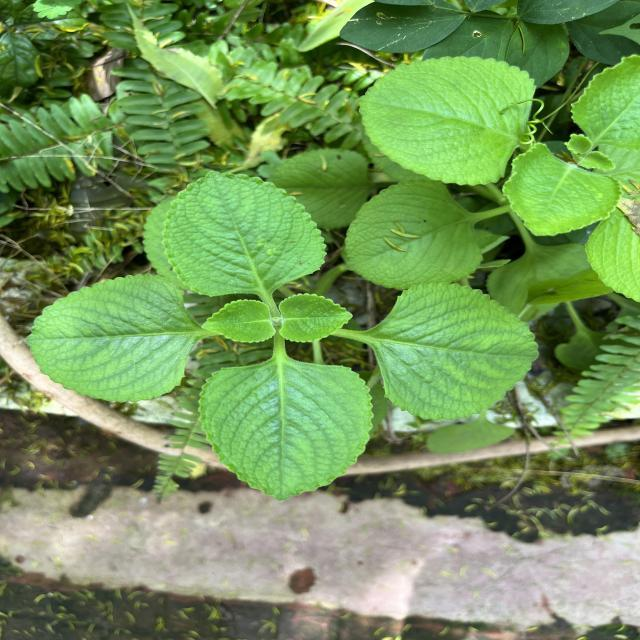Plectranthus barbatus: (196, 360, 374, 502), (354, 54, 536, 188), (373, 280, 541, 422), (23, 272, 196, 404), (161, 169, 328, 298), (344, 178, 484, 290), (501, 142, 624, 238), (279, 292, 355, 344), (200, 298, 276, 344)
